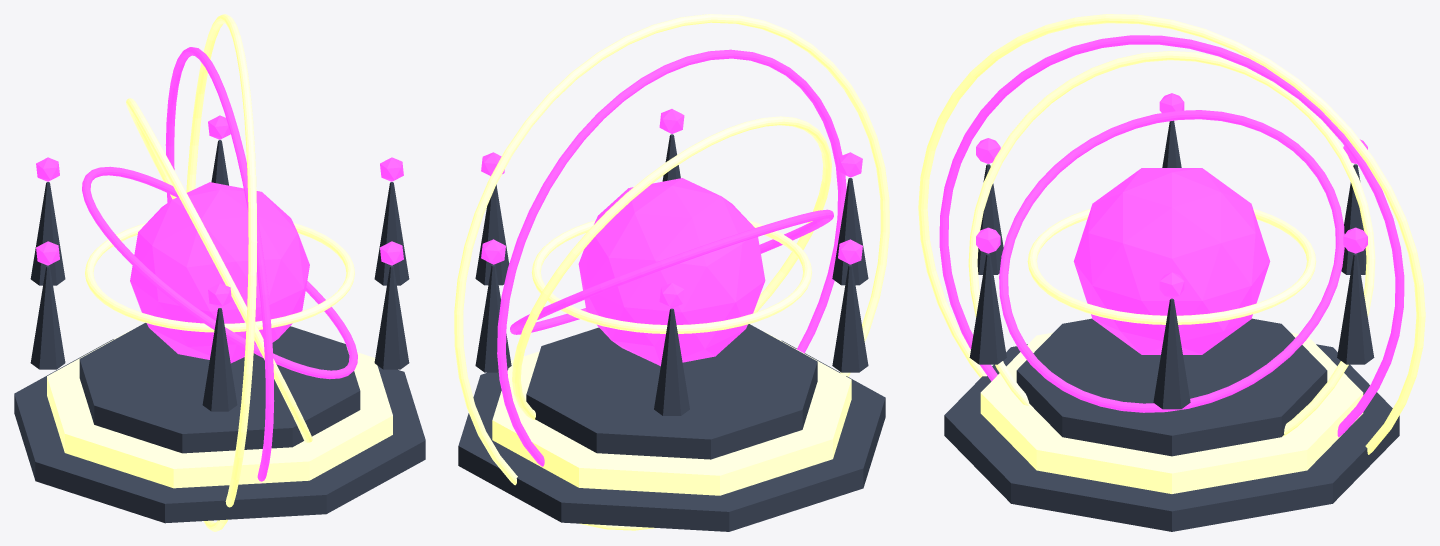
Rendered from gpu-blender-v48.glb.
The picture shows the model from 3 angles, left to right: view 1: azimuth 30°, elevation 25°; view 2: azimuth 150°, elevation 25°; view 3: azimuth 270°, elevation 25°; orthographic projection. The views are drawn at different scales.
Parts seen in each view (by area): view 1: Cylinder.002, Cylinder, SovereignCore_vector-search-engine, Cylinder.001, Torus.004, Torus.003, Torus.001, Torus, Torus.002, Cone.004, Cone.003, Cone.005 (+3 smaller); view 2: Cylinder.002, SovereignCore_vector-search-engine, Cylinder, Cylinder.001, Torus.004, Torus.003, Torus.002, Torus.001, Torus, Cone.003, Cone.002, Cone.001 (+2 smaller); view 3: SovereignCore_vector-search-engine, Cylinder.002, Cylinder, Cylinder.001, Torus.004, Torus.001, Torus.003, Torus.002, Torus, Cone, Cone.001, Cone.005 (+3 smaller).
Boxes of the visible parts, box(x1,y1,x2,y2) form: Cylinder.002: box(79, 323, 360, 453); Cylinder: box(14, 339, 425, 523); SovereignCore_vector-search-engine: box(130, 182, 309, 363); Cylinder.001: box(47, 330, 392, 488); Torus.004: box(186, 14, 257, 531); Torus.003: box(165, 47, 274, 483); Torus.001: box(82, 166, 357, 379); Torus: box(85, 223, 354, 332); Torus.002: box(126, 98, 312, 442); Cone.004: box(202, 308, 237, 411); Cone.003: box(30, 266, 65, 369); Cone.005: box(374, 266, 409, 369); Cylinder.002: box(526, 324, 817, 459); SovereignCore_vector-search-engine: box(578, 178, 765, 366); Cylinder: box(458, 340, 885, 531); Cylinder.001: box(492, 331, 851, 495); Torus.004: box(454, 14, 889, 530); Torus.003: box(497, 49, 846, 466); Torus.002: box(512, 116, 831, 419); Torus.001: box(510, 209, 833, 334); Torus: box(531, 220, 812, 333); Cone.003: box(832, 265, 868, 372); Cone.002: box(654, 308, 689, 415); Cone.001: box(475, 265, 511, 372); SovereignCore_vector-search-engine: box(1073, 168, 1270, 354); Cylinder.002: box(1016, 318, 1327, 456); Cylinder: box(944, 344, 1399, 531); Cylinder.001: box(980, 332, 1363, 493); Torus.004: box(918, 14, 1425, 454); Torus.001: box(999, 110, 1344, 412); Torus.003: box(939, 35, 1404, 437); Torus.002: box(968, 51, 1375, 435); Torus: box(1027, 209, 1316, 324); Cone: box(1153, 298, 1190, 409); Cone.001: box(1337, 254, 1374, 364); Cone.005: box(969, 254, 1006, 364).
Size of the model in its own units: 4.41 by 5.33 by 4.9.
